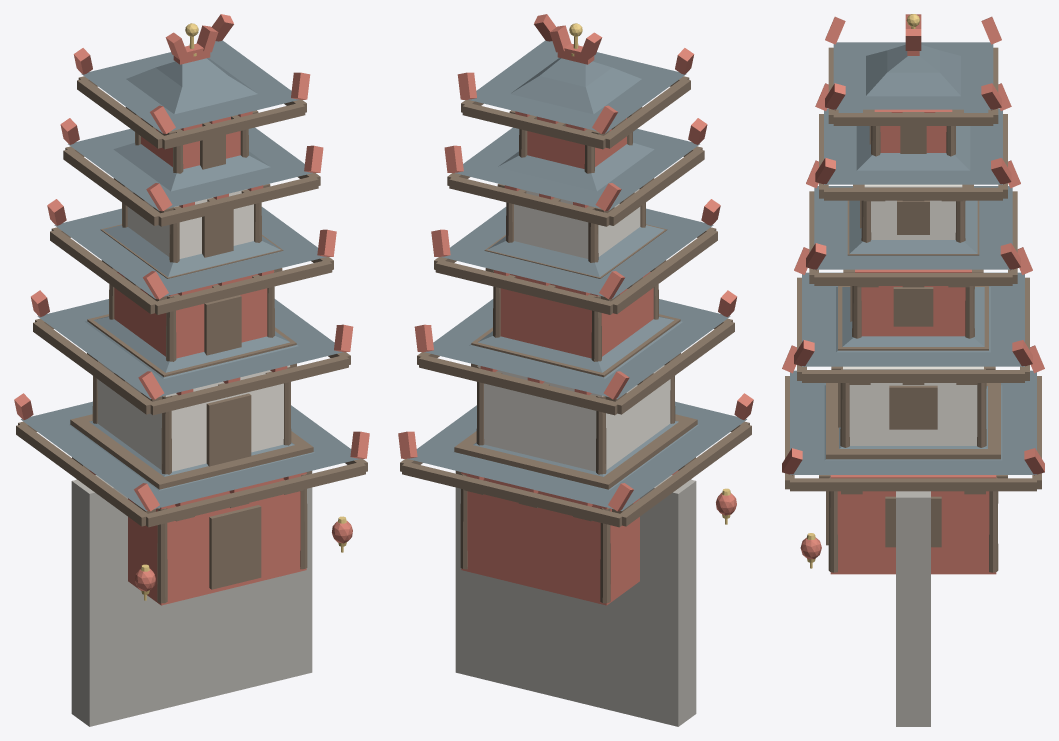
File: SM_Building_Pagoda_05.fbx
3 views of the same model, side by side, from view 1: azimuth 30°, elevation 25°; view 2: azimuth 150°, elevation 25°; view 3: azimuth 270°, elevation 25° (orthographic).
Visible parts, largest first — view 1: Pagoda05; view 2: Pagoda05; view 3: Pagoda05.
Boxes of the visible parts, box(x1,y1,x2,y2) form: Pagoda05: box(14, 14, 369, 726); Pagoda05: box(398, 14, 753, 726); Pagoda05: box(782, 14, 1044, 726).
Bounding box in the file's own units: 2.71 × 7.47 × 2.7.
